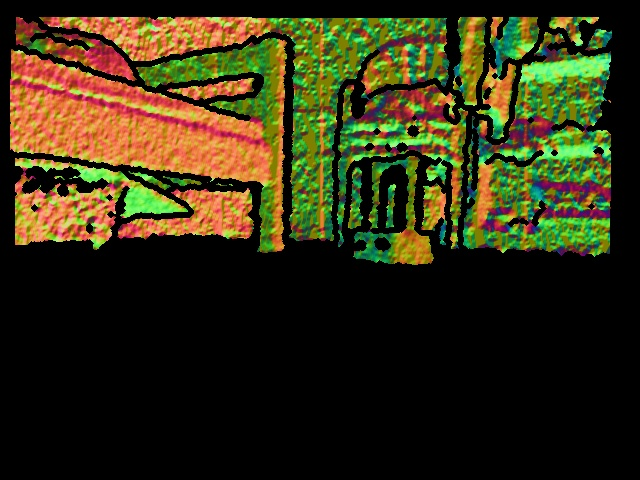station: (351, 154, 436, 269)
